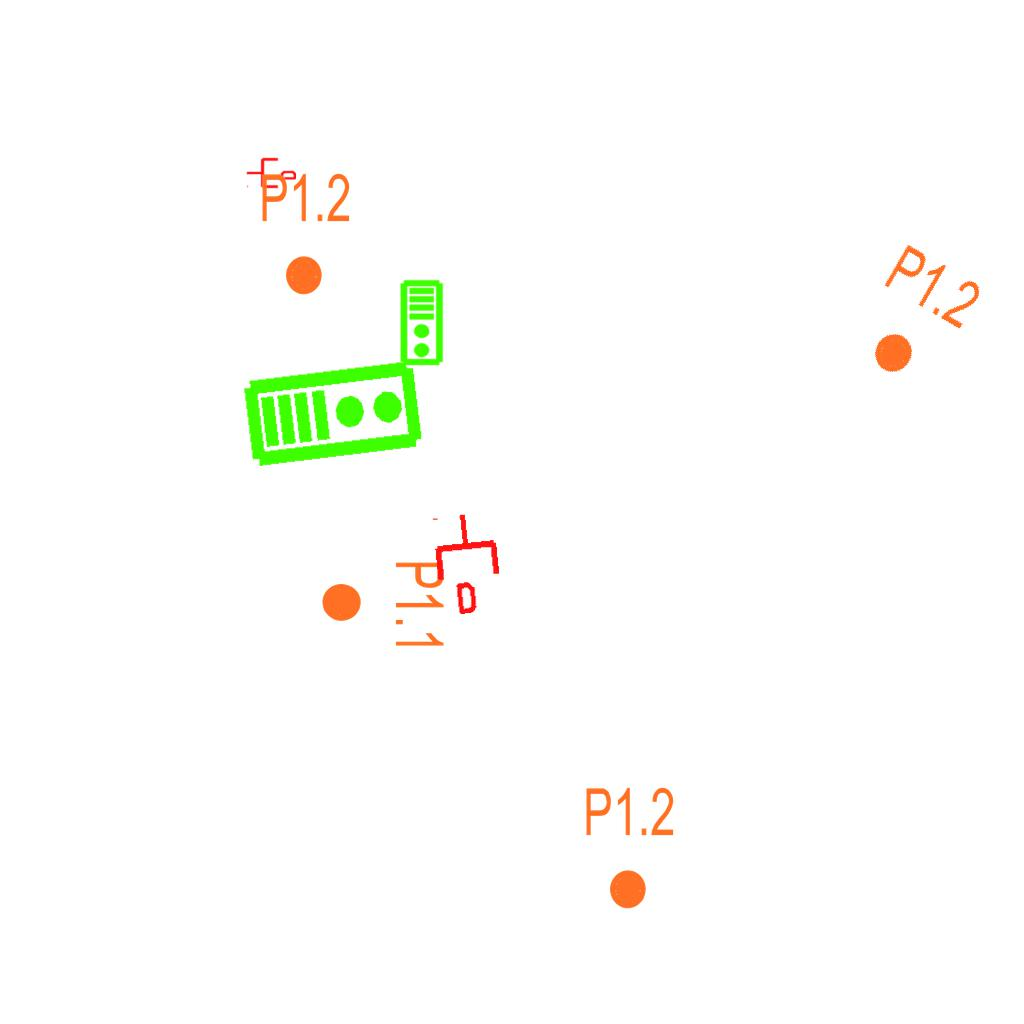Datenanschluss_einfach: (427, 509, 508, 617), (246, 156, 296, 190)
Downlight_LED_Einbauleuchten_Flur: (843, 239, 988, 397), (319, 559, 447, 652), (583, 784, 676, 912), (259, 170, 352, 298)
Gegensprechanlage_mit_Video: (240, 354, 427, 470), (399, 279, 446, 367)
